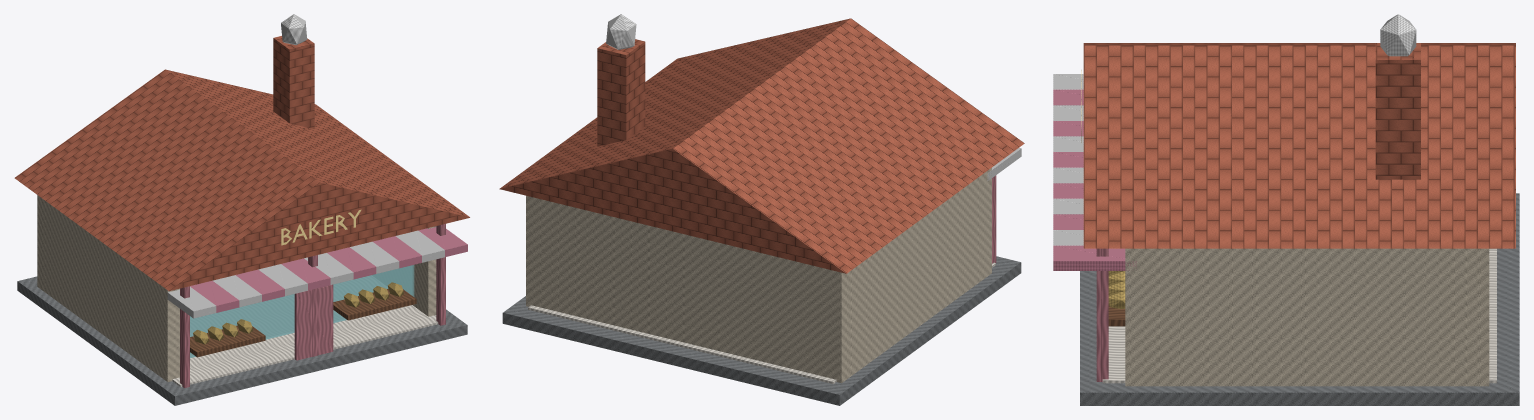
The model's file is storefront_bakery.glb.
3 renders of one model, left to right at view 1: azimuth 30°, elevation 25°; view 2: azimuth 150°, elevation 25°; view 3: azimuth 270°, elevation 25°, orthographic. The views are drawn at different scales.
Visible parts, largest first — view 1: gable_roof, side_wall, foundation, floor, window_back, chimney, door, side_wall.001, bread_shelf.001, bread_shelf, striped_awning, front_post (+16 smaller); view 2: gable_roof, rear_wall, side_wall, foundation, chimney, floor, chimney_smoke; view 3: gable_roof, side_wall.001, foundation, chimney, rear_wall, floor, striped_awning.011, front_post.002, chimney_smoke, striped_awning.001, striped_awning.006, striped_awning.008 (+8 smaller).
Boxes of the visible parts, box(x1,y1,x2,y2) form: gable_roof: box(14, 69, 469, 291); side_wall: box(43, 201, 179, 381); foundation: box(17, 276, 467, 405); floor: box(172, 305, 438, 386); window_back: box(190, 265, 414, 358); chimney: box(273, 36, 314, 128); door: box(294, 284, 333, 360); side_wall.001: box(412, 226, 436, 316); bread_shelf.001: box(333, 289, 416, 320); bread_shelf: box(190, 325, 265, 357); striped_awning: box(167, 287, 216, 318); front_post: box(180, 286, 189, 388); gable_roof: box(499, 18, 1024, 273); rear_wall: box(526, 195, 851, 383); side_wall: box(851, 168, 991, 375); foundation: box(502, 256, 1021, 405); chimney: box(597, 39, 645, 146); floor: box(528, 262, 995, 384); chimney_smoke: box(606, 14, 636, 49); gable_roof: box(1083, 43, 1515, 248); side_wall.001: box(1125, 248, 1474, 386); foundation: box(1080, 193, 1519, 405); chimney: box(1375, 43, 1420, 179); rear_wall: box(1466, 248, 1489, 386); floor: box(1102, 248, 1496, 383); striped_awning.011: box(1053, 245, 1136, 270); front_post.002: box(1096, 248, 1108, 381); chimney_smoke: box(1380, 14, 1416, 56); striped_awning.001: box(1053, 89, 1083, 105); striped_awning.006: box(1053, 167, 1083, 183); striped_awning.008: box(1053, 198, 1083, 214).
Size of the model in its own units: 6.6 by 5.26 by 6.33.
Materials: 11 (9 with a texture image).
